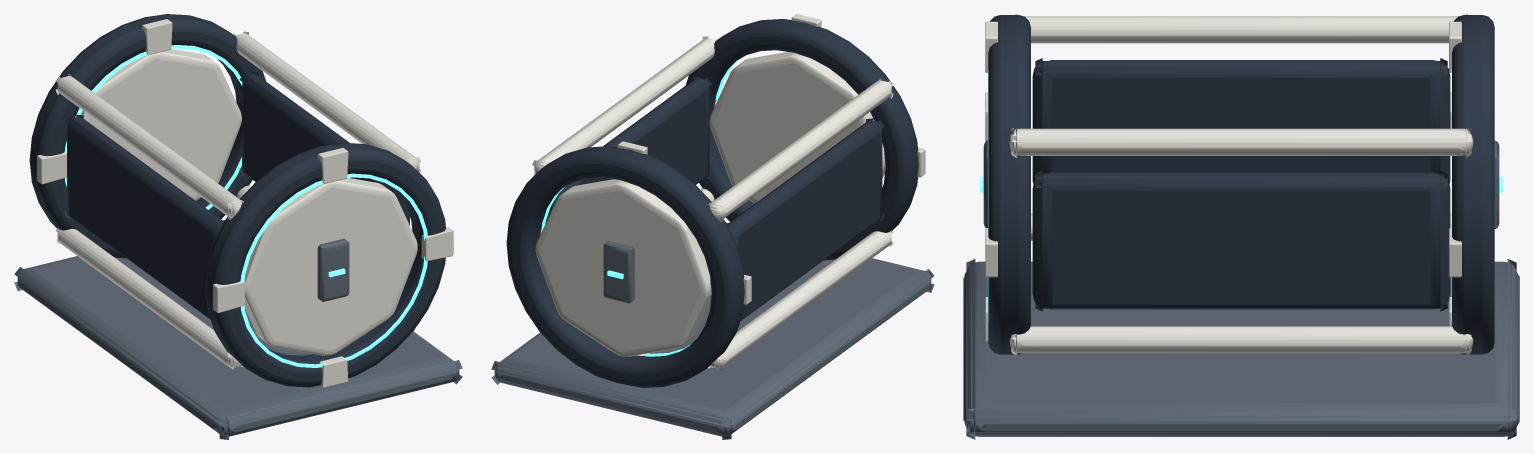
File: approval_airlock.glb
3 views of the same model, side by side, from view 1: azimuth 30°, elevation 25°; view 2: azimuth 150°, elevation 25°; view 3: azimuth 270°, elevation 25° (orthographic). The views are drawn at different scales.
Visible parts, largest first — view 1: approval_airlock__foot, approval_airlock__door_in, approval_airlock__portal_frame__02, approval_airlock__side_shell, approval_airlock__portal_frame, approval_airlock__door_out, approval_airlock__side_shell__02, approval_airlock__axial_support__02, approval_airlock__axial_support, approval_airlock__axial_support__04, approval_airlock__portal_frame_emissive__02, approval_airlock__lock_in (+5 smaller); view 2: approval_airlock__foot, approval_airlock__door_out, approval_airlock__portal_frame, approval_airlock__side_shell, approval_airlock__door_in, approval_airlock__portal_frame__02, approval_airlock__side_shell__02, approval_airlock__axial_support__02, approval_airlock__axial_support, approval_airlock__axial_support__04, approval_airlock__lock_out; view 3: approval_airlock__foot, approval_airlock__side_shell__02, approval_airlock__side_shell, approval_airlock__portal_frame, approval_airlock__portal_frame__02, approval_airlock__axial_support__04, approval_airlock__axial_support__03, approval_airlock__axial_support__02, approval_airlock__portal_frame_armor__05.
Part boxes in pixels (x1,y1,x2,y2): approval_airlock__foot: (14, 220, 462, 439); approval_airlock__door_in: (244, 178, 417, 355); approval_airlock__portal_frame__02: (205, 142, 445, 387); approval_airlock__side_shell: (64, 114, 223, 319); approval_airlock__portal_frame: (29, 14, 265, 258); approval_airlock__door_out: (79, 49, 241, 200); approval_airlock__side_shell__02: (239, 72, 409, 225); approval_airlock__axial_support__02: (56, 74, 243, 219); approval_airlock__axial_support: (55, 228, 243, 369); approval_airlock__axial_support__04: (233, 31, 421, 172); approval_airlock__portal_frame_emissive__02: (240, 173, 427, 367); approval_airlock__lock_in: (317, 238, 349, 301); approval_airlock__foot: (491, 222, 934, 439); approval_airlock__door_out: (535, 179, 711, 356); approval_airlock__portal_frame: (506, 141, 751, 387); approval_airlock__side_shell: (727, 118, 884, 320); approval_airlock__door_in: (709, 52, 885, 203); approval_airlock__portal_frame__02: (685, 19, 918, 260); approval_airlock__side_shell__02: (545, 76, 711, 223); approval_airlock__axial_support__02: (708, 78, 893, 222); approval_airlock__axial_support: (708, 230, 893, 370); approval_airlock__axial_support__04: (532, 36, 717, 175); approval_airlock__lock_out: (603, 241, 634, 303); approval_airlock__foot: (963, 259, 1519, 439); approval_airlock__side_shell__02: (1032, 170, 1450, 311); approval_airlock__side_shell: (1032, 58, 1450, 184); approval_airlock__portal_frame: (1449, 15, 1494, 354); approval_airlock__portal_frame__02: (988, 15, 1030, 354); approval_airlock__axial_support__04: (1009, 128, 1473, 157); approval_airlock__axial_support__03: (1009, 326, 1473, 355); approval_airlock__axial_support__02: (1015, 14, 1467, 43); approval_airlock__portal_frame_armor__05: (985, 228, 997, 277).
Bounding box in the file's own units: 2 × 2 × 3.
